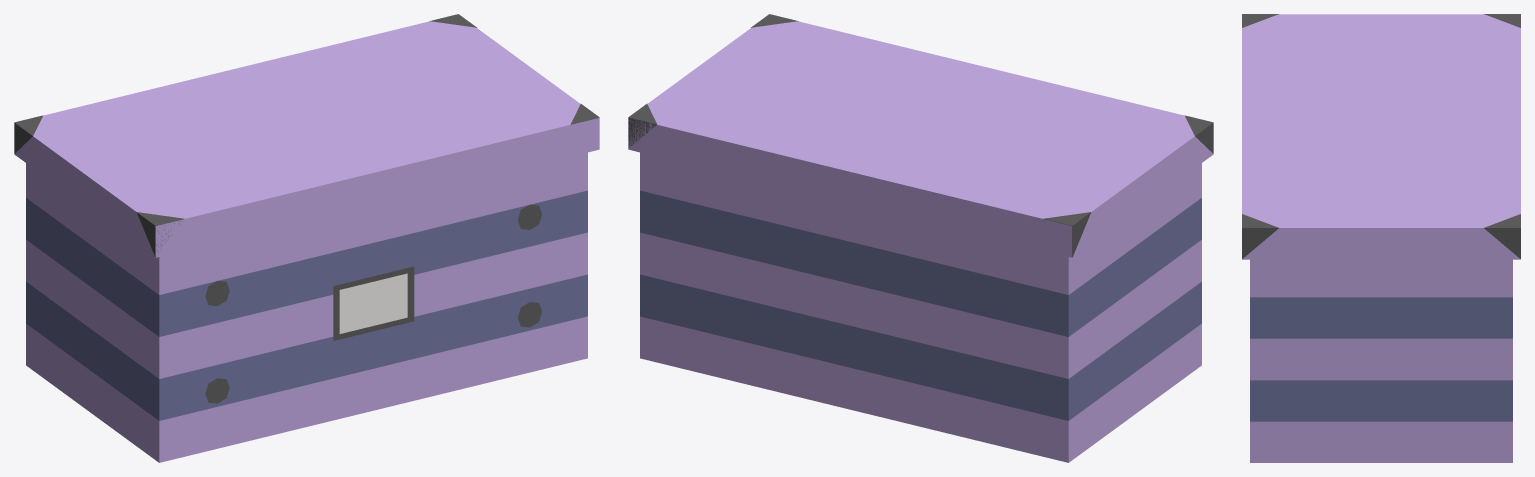
File: storage_box_3.fbx
3 views of the same model, side by side, from view 1: azimuth 30°, elevation 25°; view 2: azimuth 150°, elevation 25°; view 3: azimuth 270°, elevation 25° (orthographic).
Visible parts, largest first — view 1: storage_box_3; view 2: storage_box_3; view 3: storage_box_3.
Part boxes in pixels (<box>): storage_box_3: <box>14,14,599,462</box>; storage_box_3: <box>628,14,1213,462</box>; storage_box_3: <box>1242,14,1520,462</box>.
Bounding box in the file's own units: 42.02 × 23.14 × 21.86.
